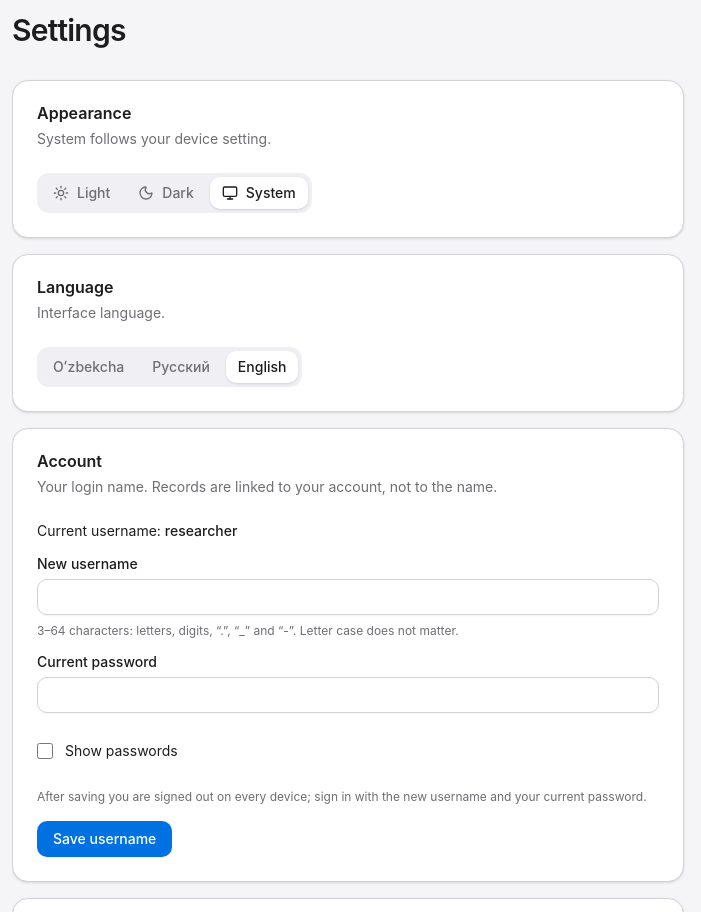
Test: Settings → Account: change username › a wrong current password keeps the session, clears the field and points at it
Type "hunter" into the field labelled "New username".
click(348, 597); type("hunter")  # box [37, 579, 659, 615]
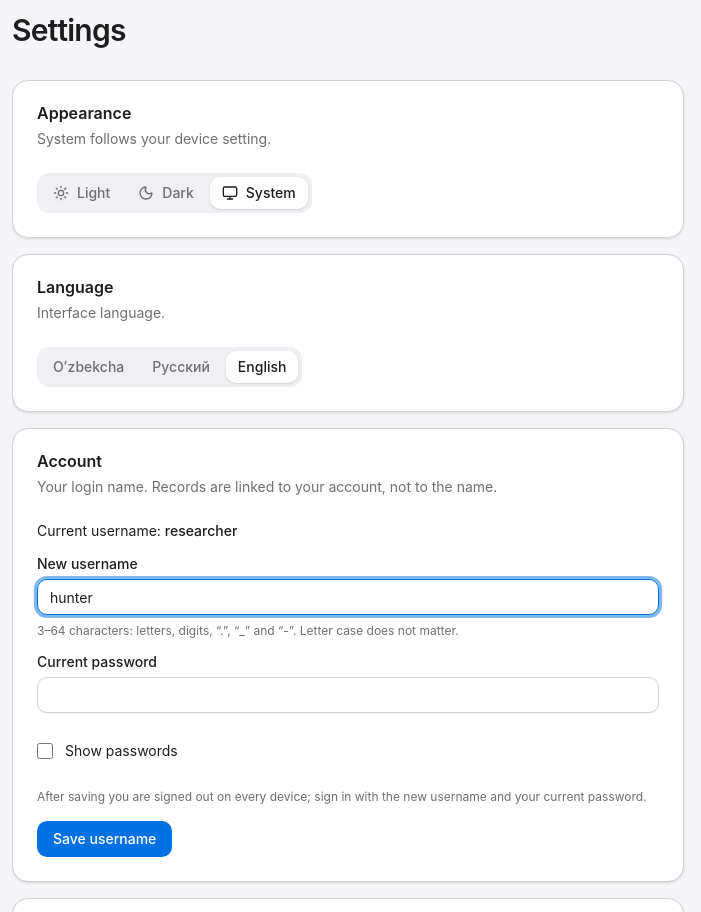
Type "not my password" into the password field labelled "Current password".
click(348, 695); type("not my password")  # box [37, 677, 659, 713]
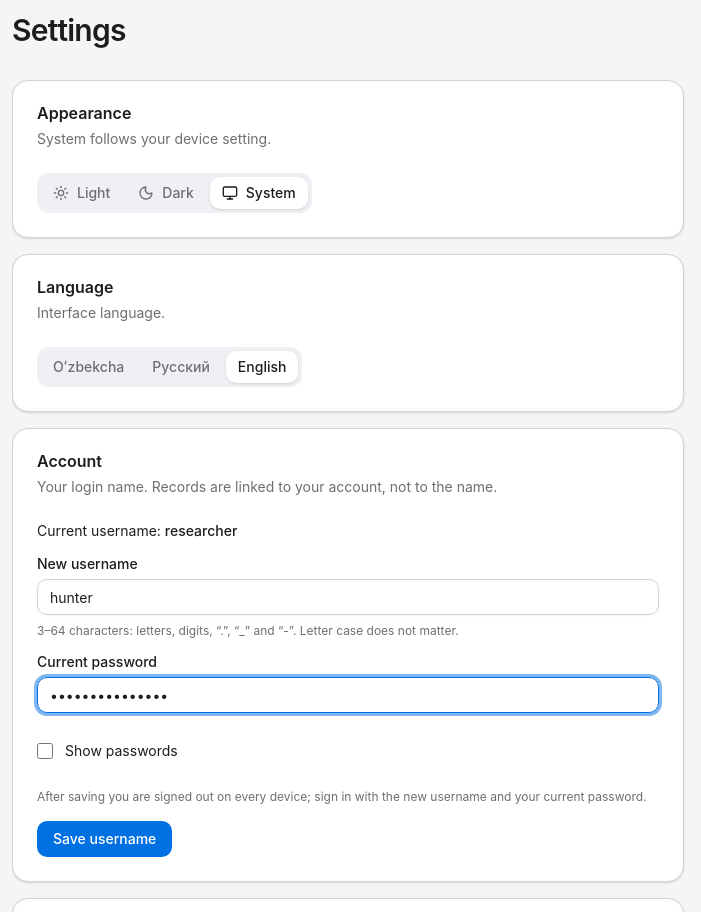
Click the button "Save username".
click(105, 839)  # box [37, 821, 172, 857]
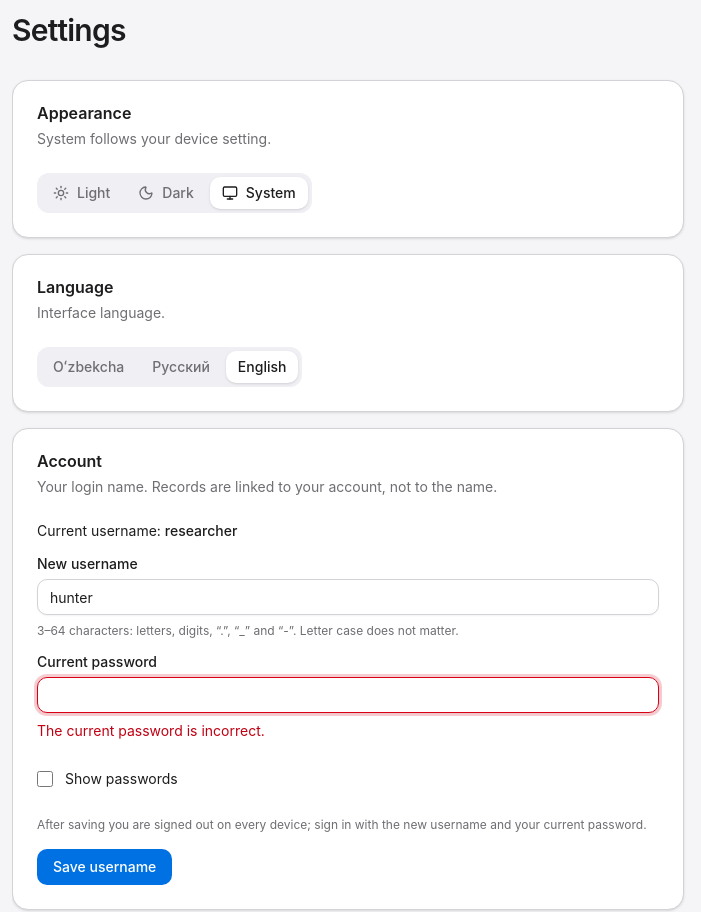
Expected: the heading "Settings" is shown, [12, 12, 126, 48]
Expected: the text "The current password is incorrect." is shown, [37, 722, 265, 739]
Expected: the password field labelled "Current password" is empty, [37, 677, 659, 713]
